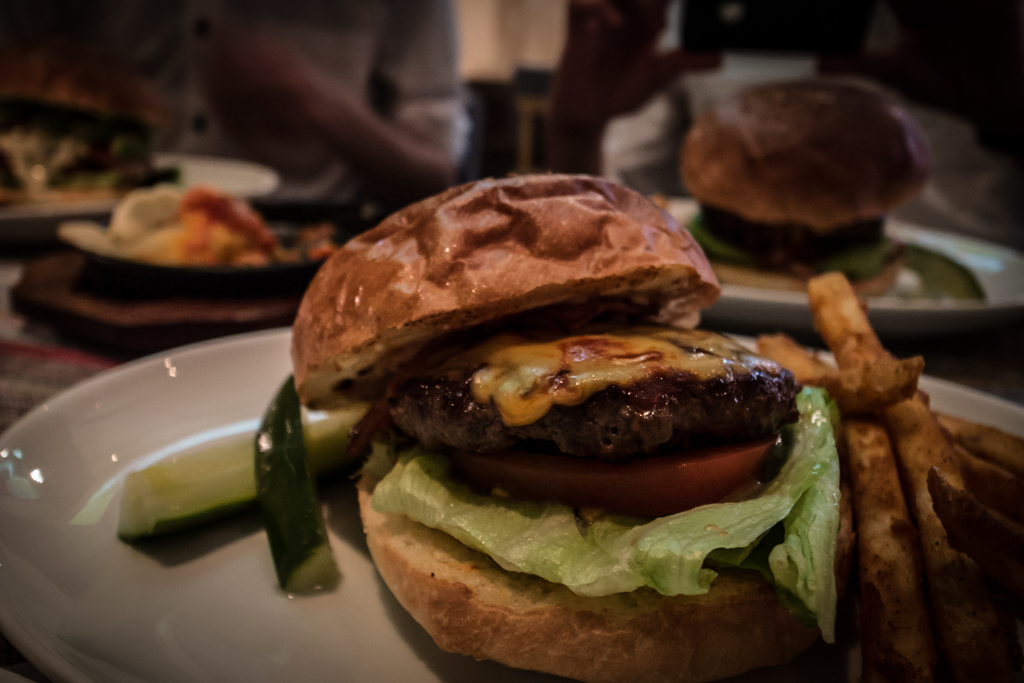French fries: (747, 255, 1023, 682)
